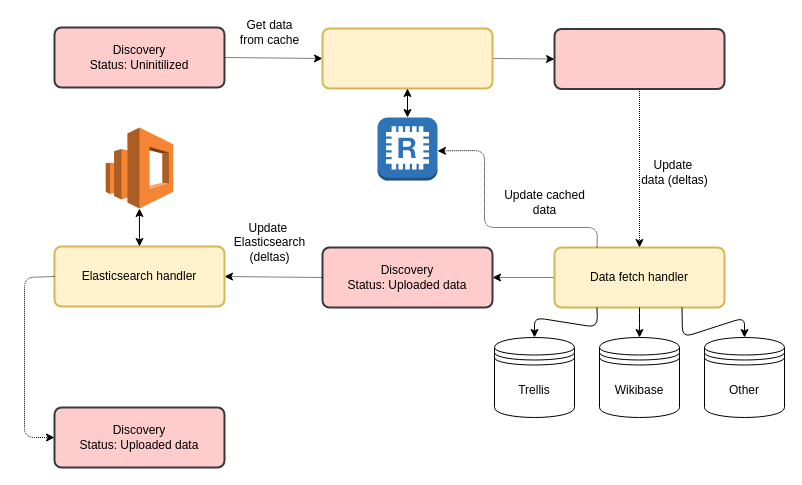
Image size: 802x485. Some labels were removed from this diagram. The box of each missing label's shape, as (x1, y1, x2, y2) in pixels:
Cache handler: (321, 27, 493, 89)
Discovery Status: Initialized with local data: (553, 28, 725, 90)
Elasticsearch: (105, 126, 173, 208)
REDIS Cache: (376, 116, 438, 180)
